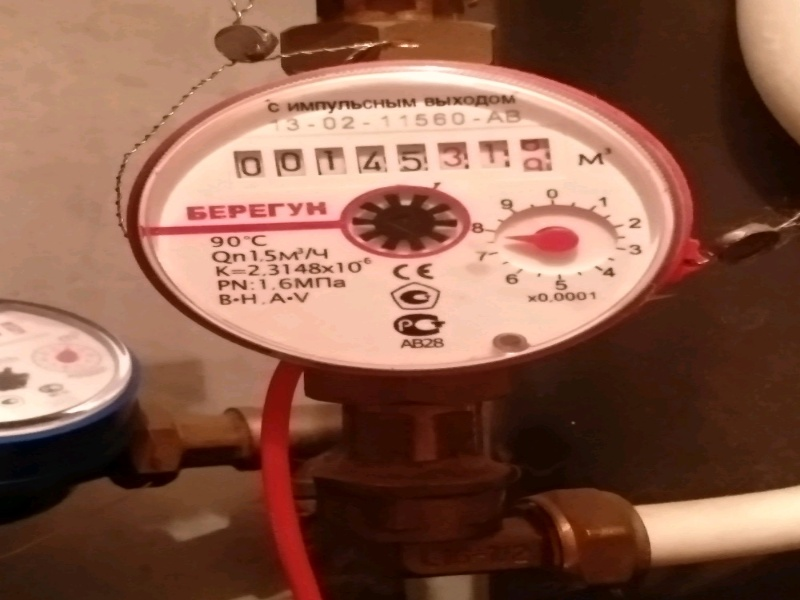dial: (223, 145, 556, 184)
